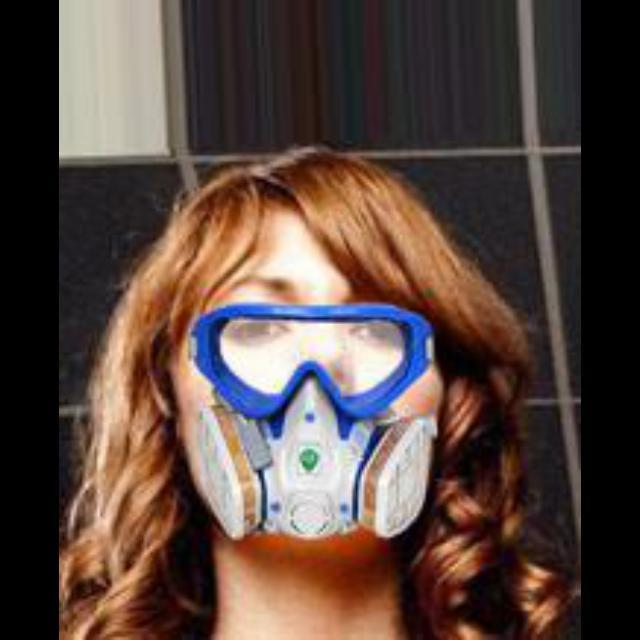suspicion: (178, 162, 454, 548)
